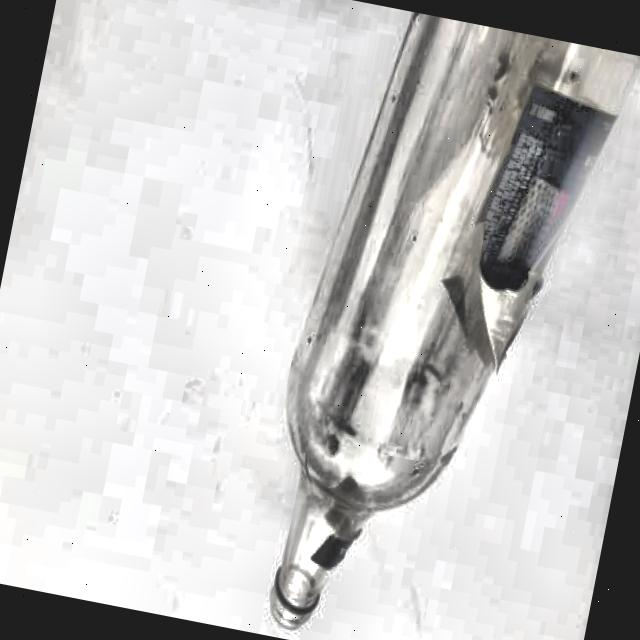glass: (241, 5, 640, 640)
